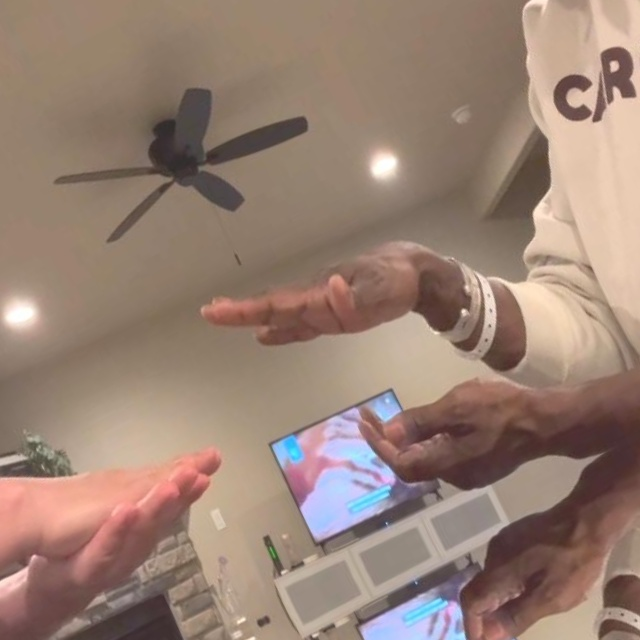Paper: (199, 210, 437, 397), (16, 409, 204, 558)
